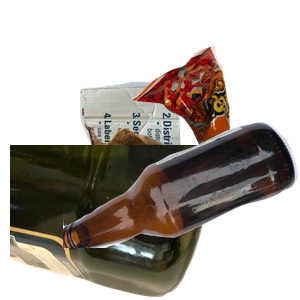cardboard: (77, 79, 251, 227)
glass: (63, 120, 300, 300)
plastic: (10, 145, 213, 300)
trash: (130, 43, 300, 190)
